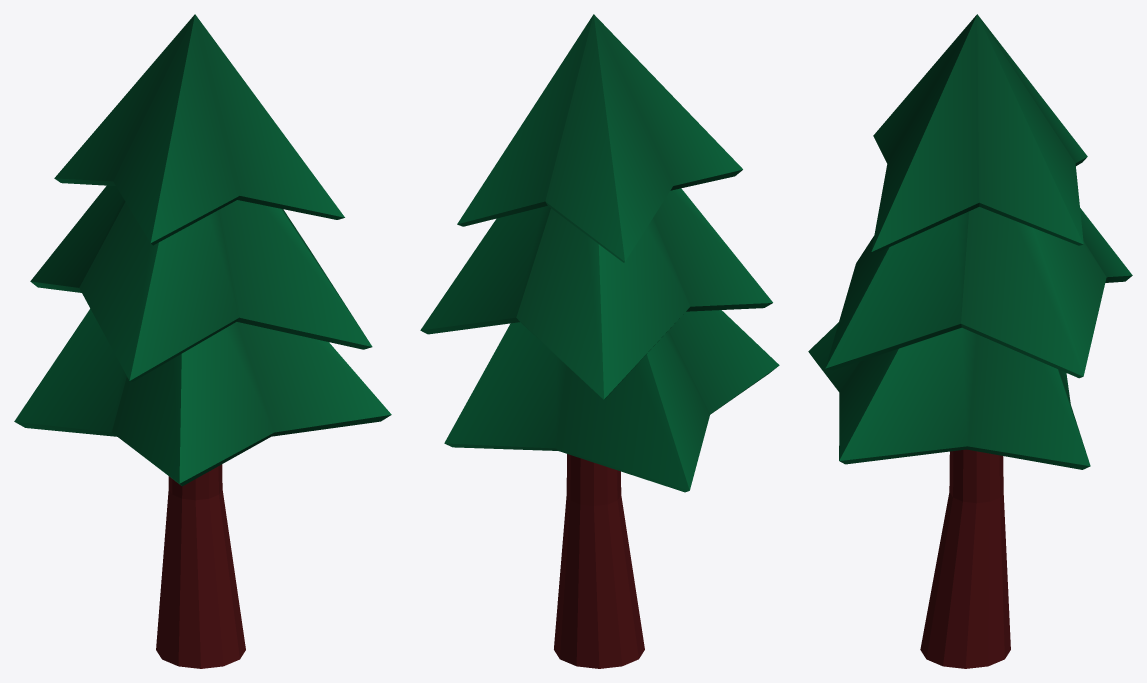
File: tree_2_3.fbx
3 views of the same model, side by side, from view 1: azimuth 30°, elevation 25°; view 2: azimuth 150°, elevation 25°; view 3: azimuth 270°, elevation 25° (orthographic).
Parts seen in each view (by area): view 1: tree_2_3; view 2: tree_2_3; view 3: tree_2_3.
Part boxes in pixels (x1=…): tree_2_3: x1=14, y1=14, x2=391, y2=668; tree_2_3: x1=420, y1=14, x2=779, y2=668; tree_2_3: x1=808, y1=14, x2=1132, y2=668.
Size of the model in its own units: 199 by 452 by 209.
